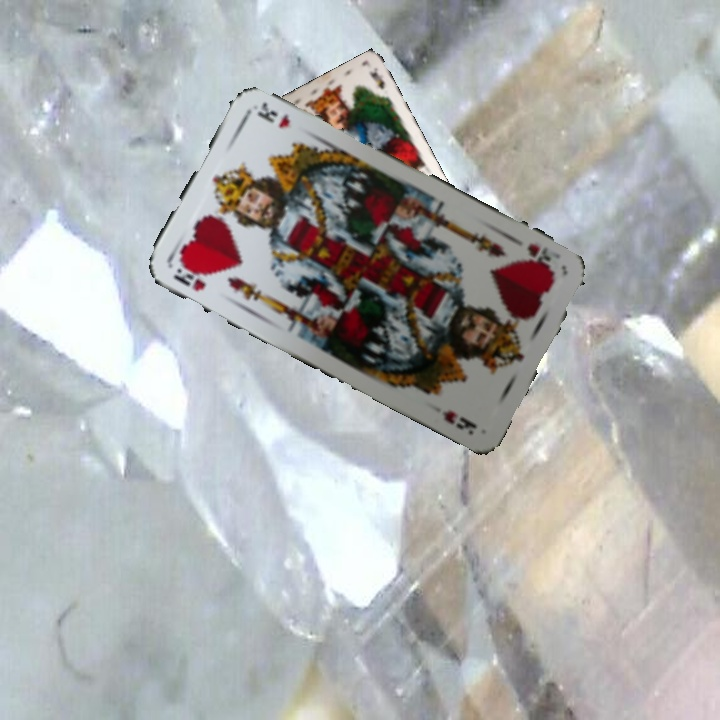HK: (168, 257, 210, 294), (523, 239, 560, 275)
